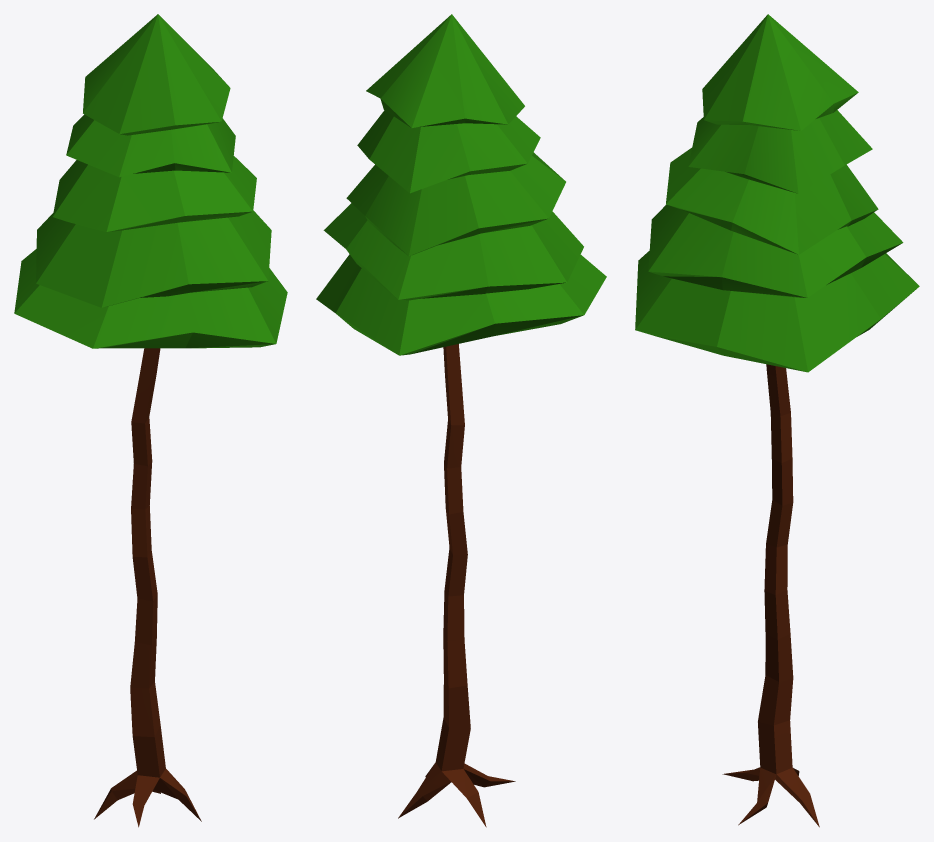
File: tree4.fbx
3 renders of one model, left to right at view 1: azimuth 30°, elevation 25°; view 2: azimuth 150°, elevation 25°; view 3: azimuth 270°, elevation 25°, orthographic.
Visible parts, largest first — view 1: TreeModel88062163; view 2: TreeModel88062163; view 3: TreeModel88062163.
Boxes of the visible parts, <box> form: TreeModel88062163: <box>14,14,287,827</box>; TreeModel88062163: <box>316,14,606,827</box>; TreeModel88062163: <box>635,14,919,827</box>.
Bounding box in the file's own units: 562 × 1683 × 543.
